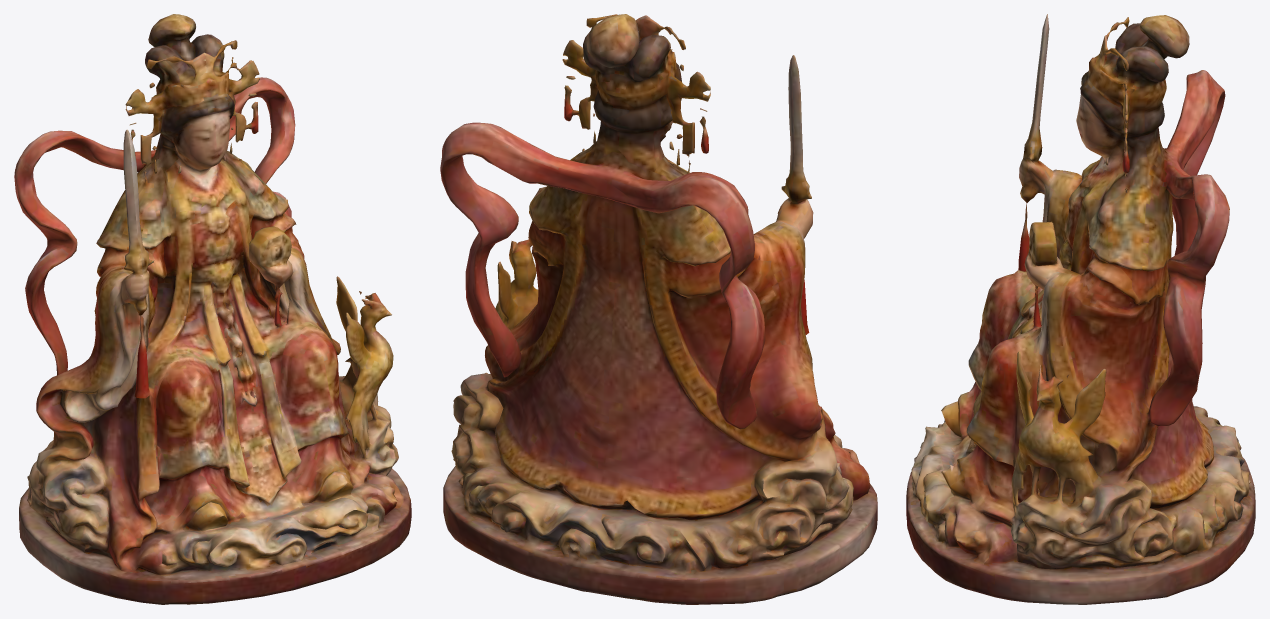
File: jiutian-lite.glb
3 renders of one model, left to right at view 1: azimuth 30°, elevation 25°; view 2: azimuth 150°, elevation 25°; view 3: azimuth 270°, elevation 25°, orthographic. The views are drawn at different scales.
Bounding box in the file's own units: 0.7352 × 0.9984 × 0.6277.
Materials: 1 (1 with a texture image).
